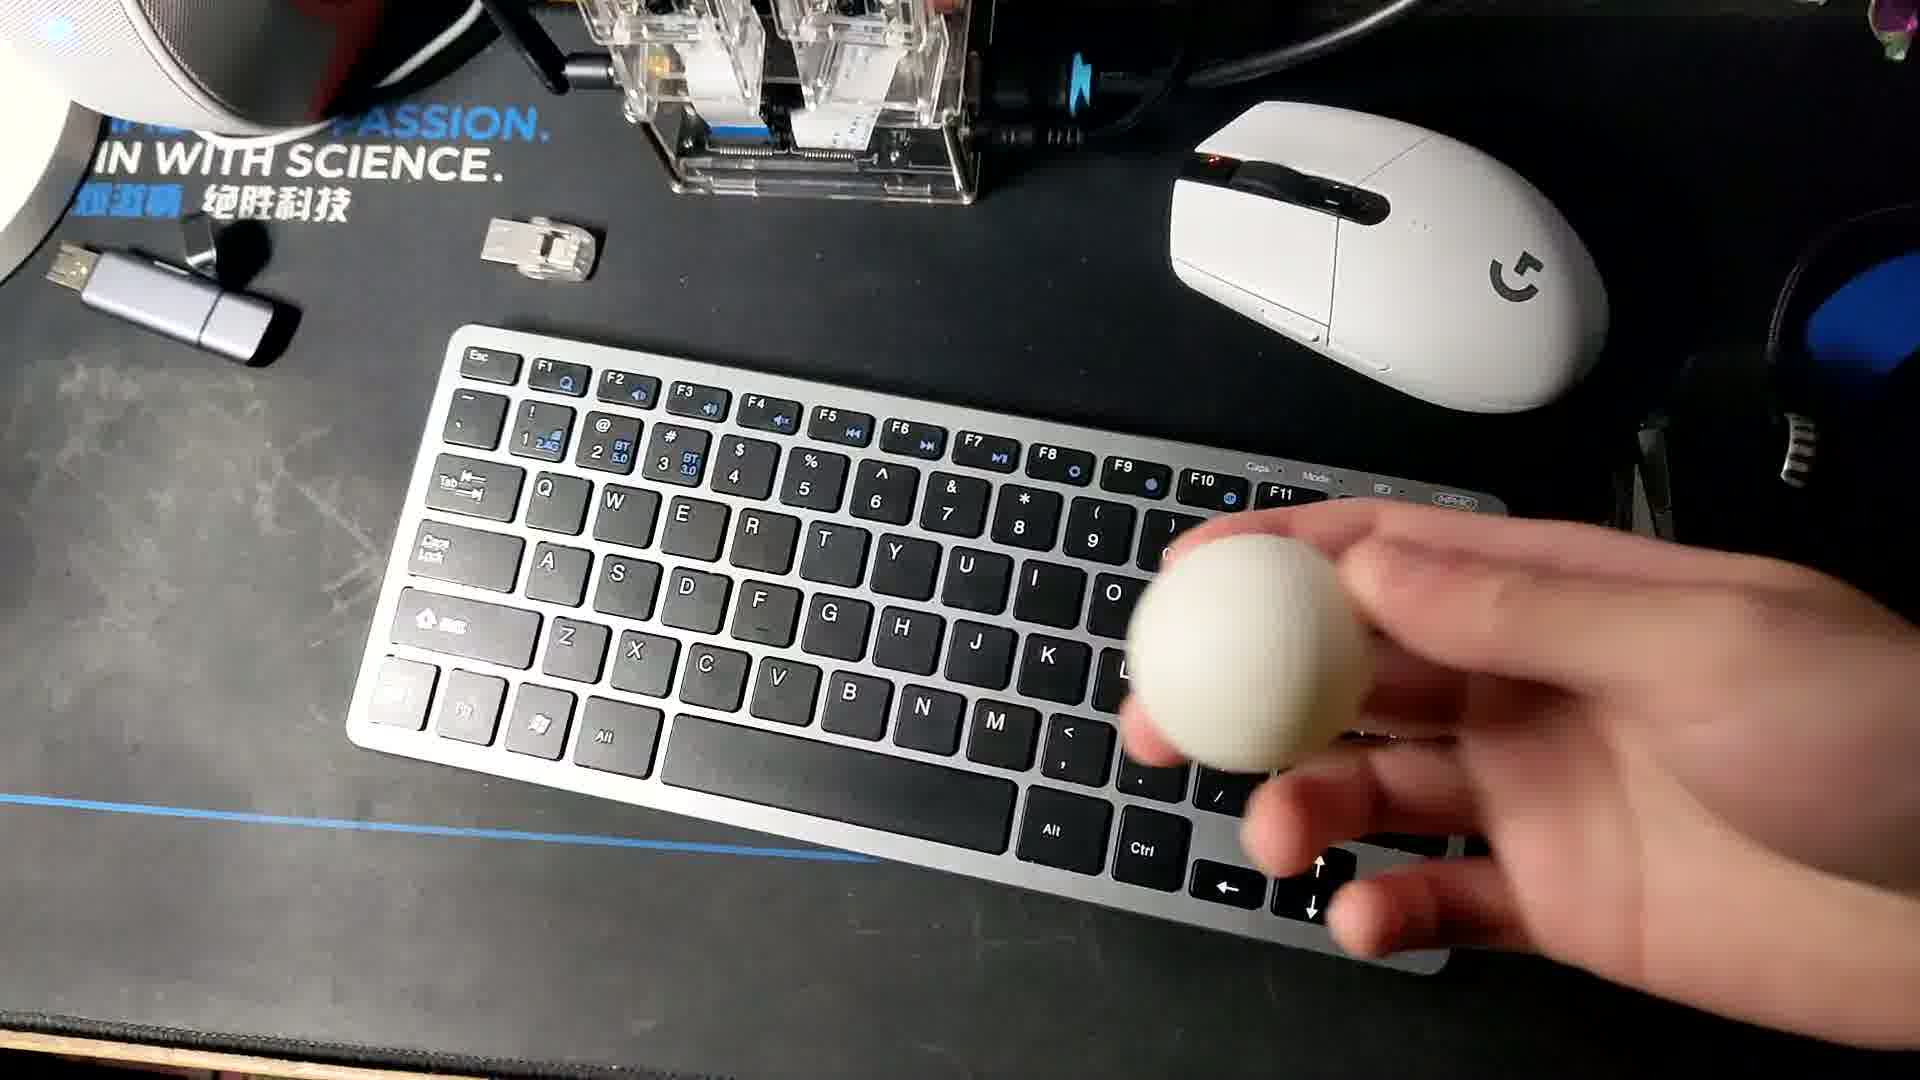Ball: (1124, 531, 1358, 775)
